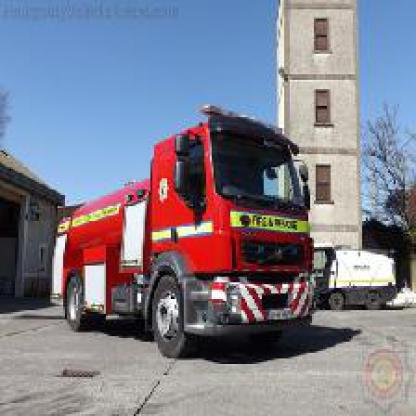emergency: (48, 98, 318, 360)
not_emergency: (295, 234, 401, 312)
